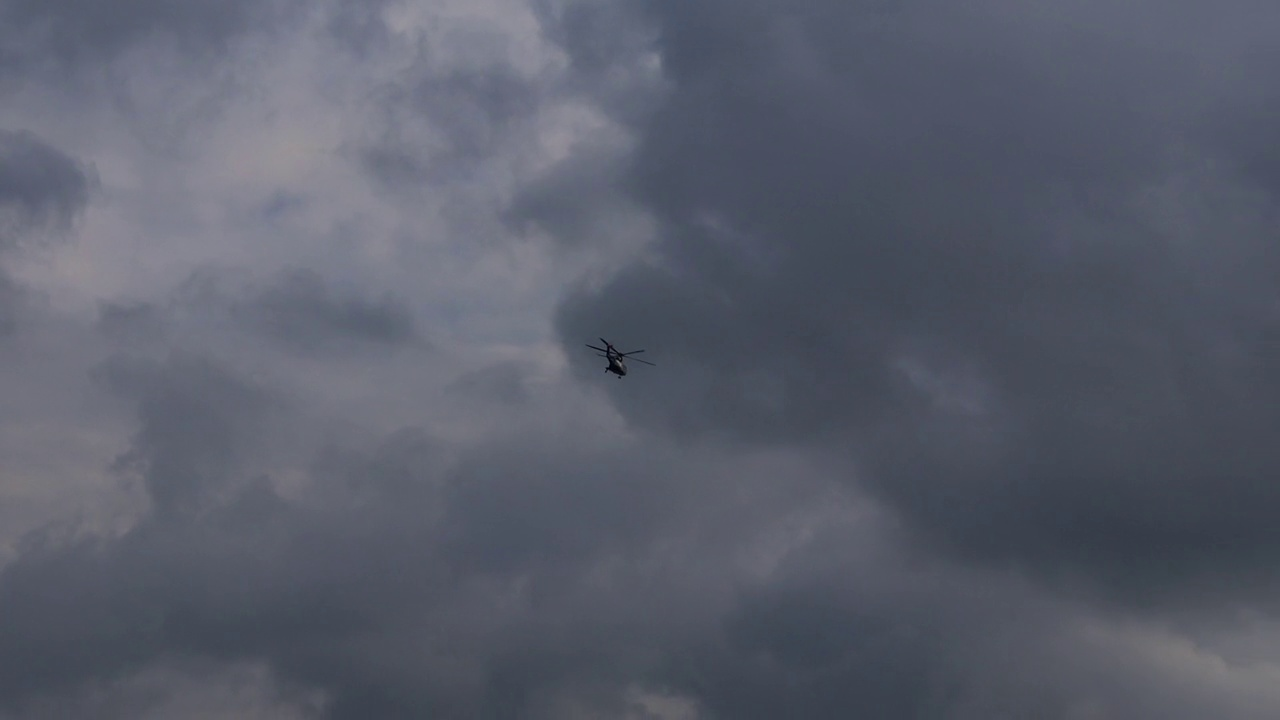heli: (586, 335, 657, 379)
